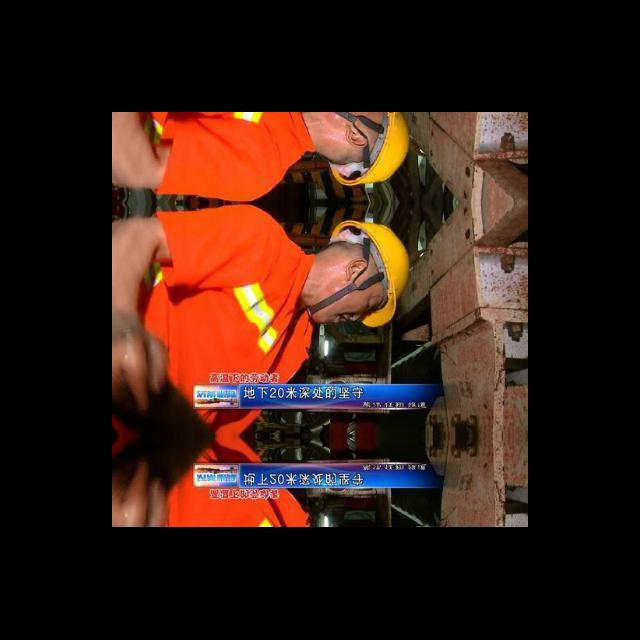Hardhat: (331, 218, 410, 328), (332, 112, 410, 186)
NO-Mask: (312, 266, 353, 326), (316, 112, 365, 142)
Person: (112, 205, 412, 412), (112, 113, 413, 204), (112, 440, 319, 528)
Safety Vest: (136, 259, 306, 411), (140, 113, 302, 196), (159, 469, 312, 527)
